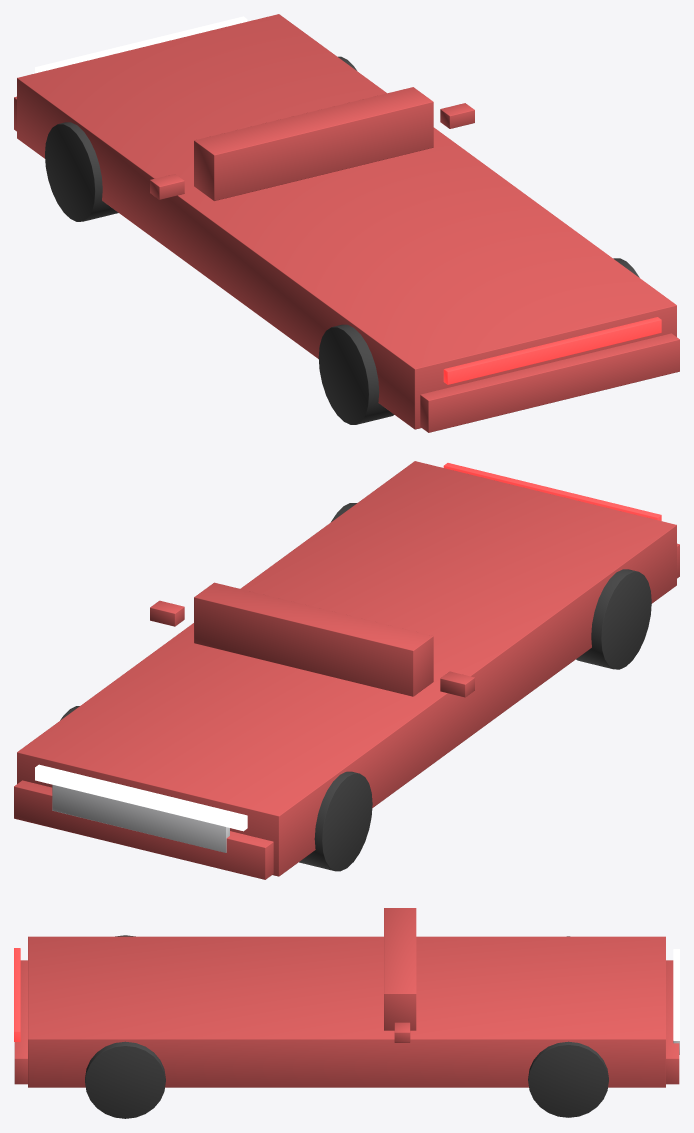
Rendered from vehicle.glb.
The picture shows the model from 3 angles, top to bottom: view 1: azimuth 30°, elevation 25°; view 2: azimuth 150°, elevation 25°; view 3: azimuth 270°, elevation 25°; orthographic projection. The views are drawn at different scales.
Parts seen in each view (by area): view 1: BODY_Main, BODY_Roof, BODY_Bumpers_Rear, WHEEL_RR_Tire, WHEEL_FR_Tire, LIGHT_Taillights, LIGHT_Headlights, BODY_Mirror_L, BODY_Mirror_R; view 2: BODY_Main, BODY_Roof, BODY_Bumpers_Front, WHEEL_RR_Tire, BODY_Grille, WHEEL_FR_Tire, LIGHT_Headlights, LIGHT_Taillights, BODY_Mirror_L, BODY_Mirror_R; view 3: BODY_Main, WHEEL_RL_Tire, WHEEL_FL_Tire, BODY_Roof, BODY_Bumpers_Rear, BODY_Bumpers_Front, LIGHT_Taillights, LIGHT_Headlights, BODY_Mirror_L.
Part boxes in pixels (bbox=[...]): BODY_Main: bbox=[17, 14, 676, 429]; BODY_Roof: bbox=[194, 87, 433, 200]; BODY_Bumpers_Rear: bbox=[420, 333, 679, 432]; WHEEL_RR_Tire: bbox=[318, 324, 394, 424]; WHEEL_FR_Tire: bbox=[45, 122, 118, 221]; LIGHT_Taillights: bbox=[443, 317, 661, 384]; LIGHT_Headlights: bbox=[35, 16, 247, 73]; BODY_Mirror_L: bbox=[440, 103, 474, 128]; BODY_Mirror_R: bbox=[150, 174, 184, 199]; BODY_Main: bbox=[17, 461, 676, 876]; BODY_Roof: bbox=[194, 582, 433, 696]; BODY_Bumpers_Front: bbox=[14, 780, 273, 879]; WHEEL_RR_Tire: bbox=[576, 569, 651, 669]; BODY_Grille: bbox=[52, 784, 229, 852]; WHEEL_FR_Tire: bbox=[299, 771, 372, 871]; LIGHT_Headlights: bbox=[35, 764, 247, 831]; LIGHT_Taillights: bbox=[443, 463, 661, 520]; BODY_Mirror_L: bbox=[150, 600, 184, 626]; BODY_Mirror_R: bbox=[440, 671, 474, 697]; BODY_Main: bbox=[28, 936, 665, 1087]; WHEEL_RL_Tire: bbox=[85, 1041, 165, 1118]; WHEEL_FL_Tire: bbox=[528, 1041, 608, 1117]; BODY_Roof: bbox=[384, 908, 416, 1030]; BODY_Bumpers_Rear: bbox=[14, 960, 27, 1084]; BODY_Bumpers_Front: bbox=[666, 960, 679, 1084]; LIGHT_Taillights: bbox=[14, 948, 20, 1041]; LIGHT_Headlights: bbox=[673, 949, 679, 1040]; BODY_Mirror_L: bbox=[394, 1022, 410, 1042].
Size of the model in its own units: 2.24 by 0.9552 by 5.11.
